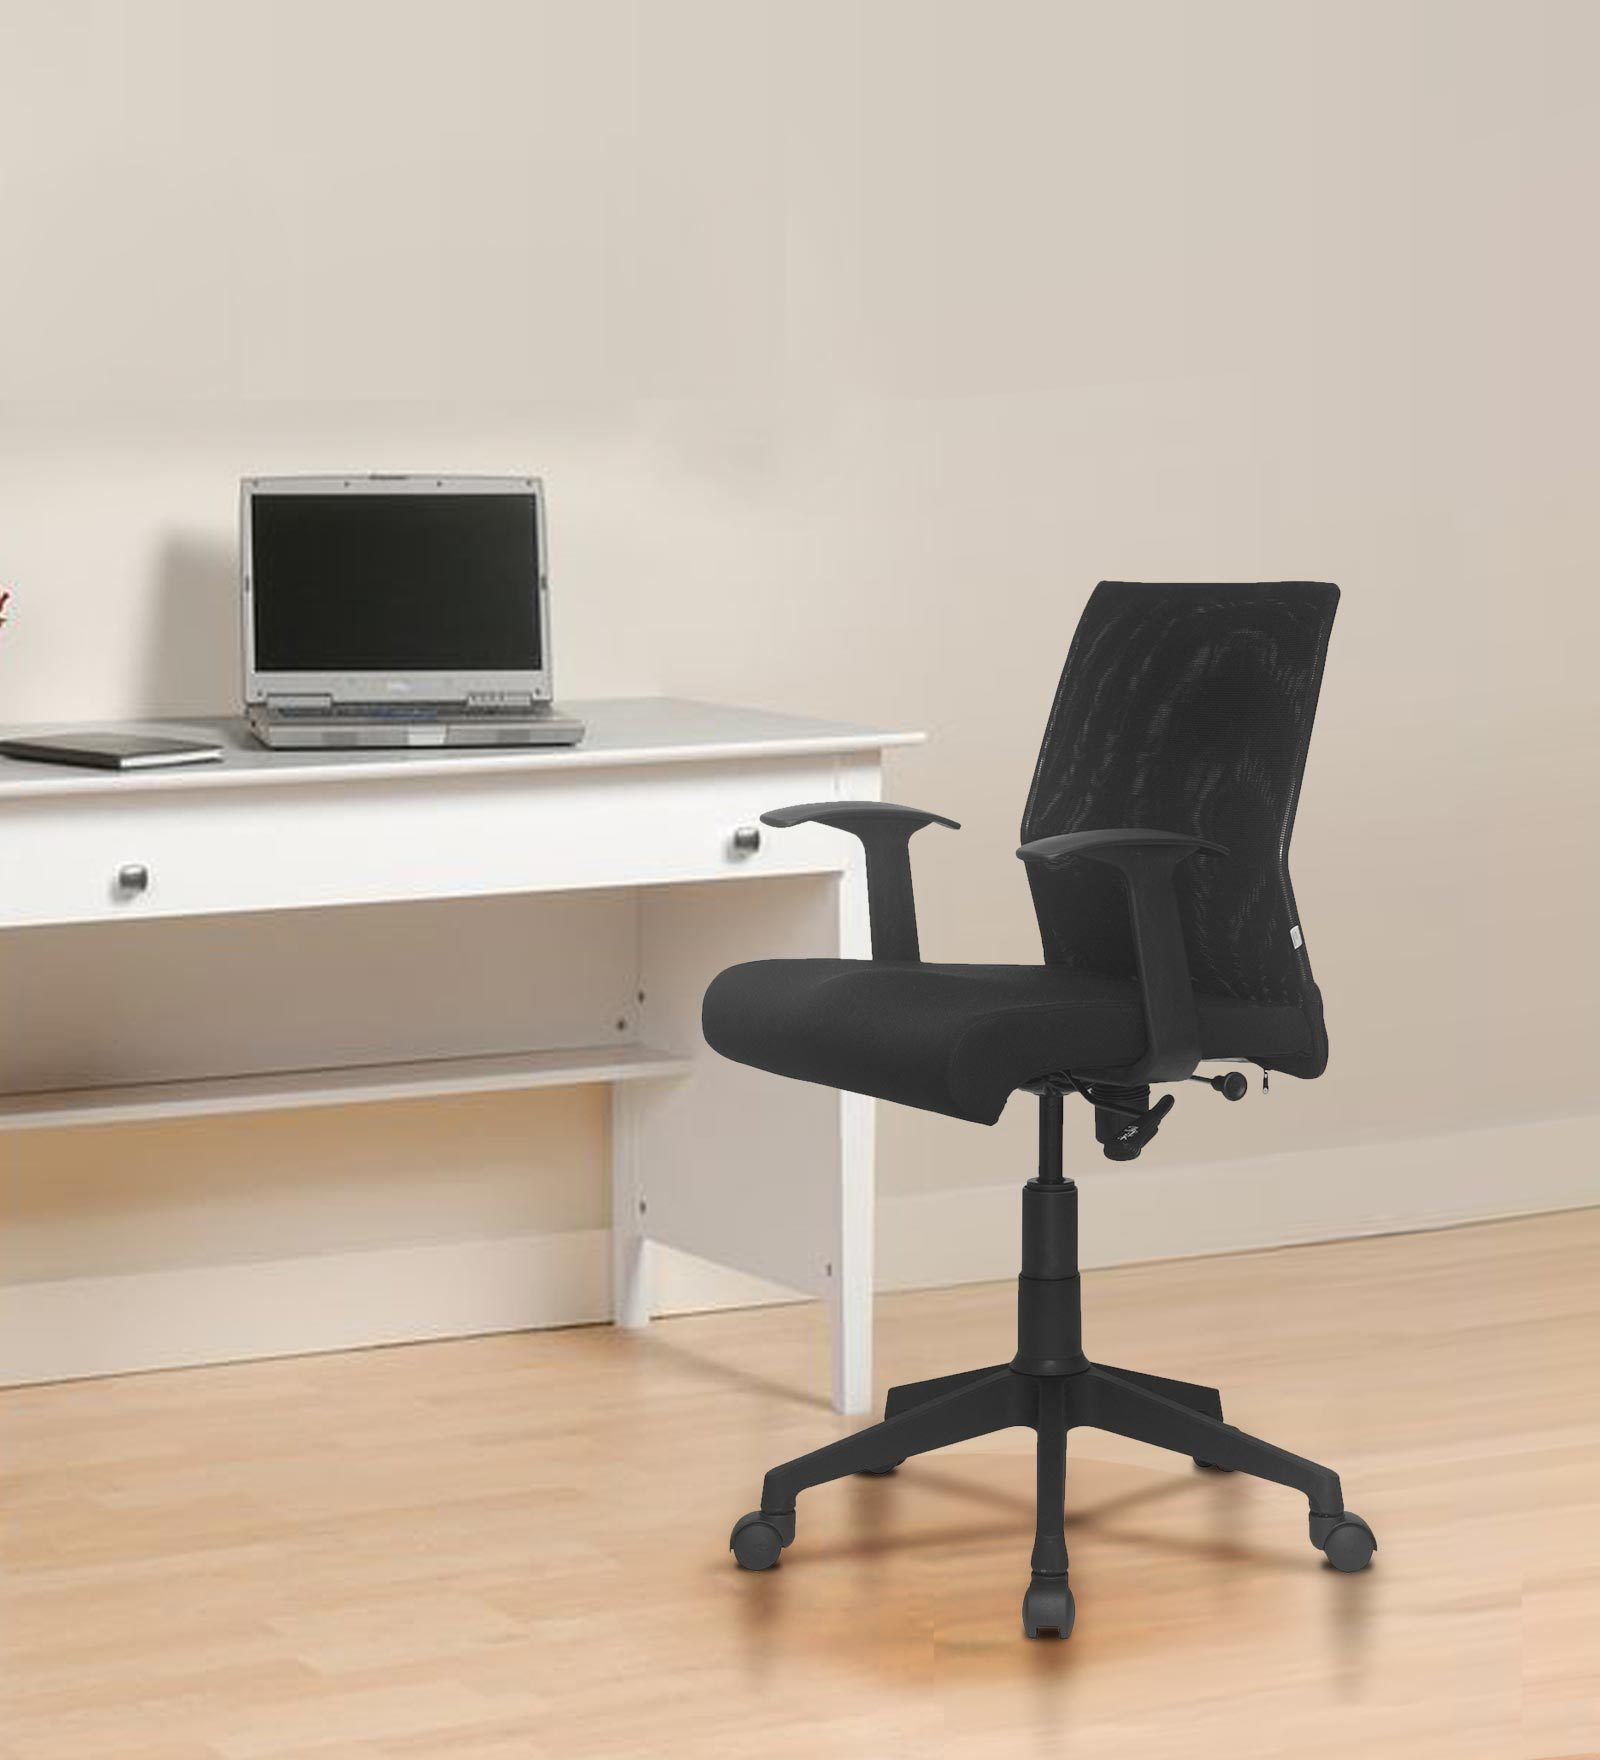Thames Low Back Mesh Office Chair in Black Colour by Nilkamal: (723, 557, 1454, 1673)
